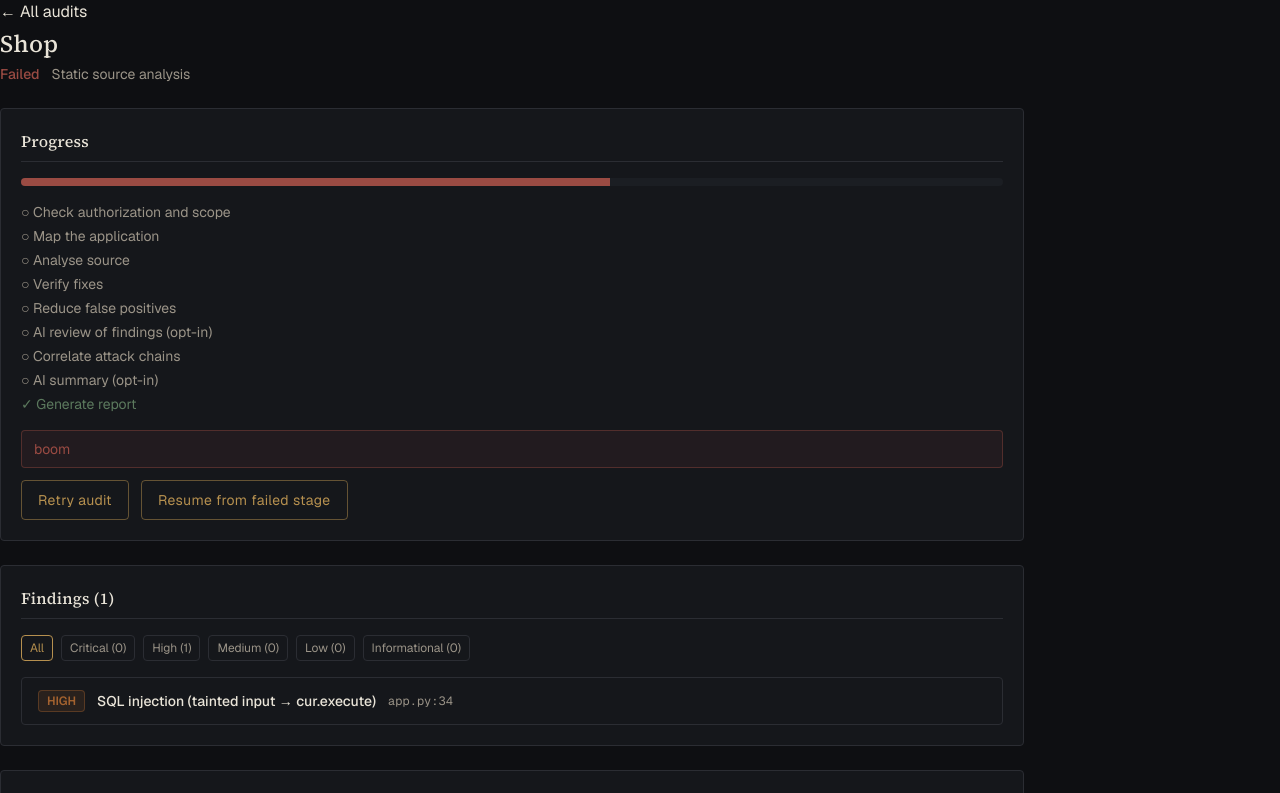
Test: AuditDetailPage › offers Retry for a failed audit and reloads after it is accepted
Click the button "Retry audit".
click(75, 500)  # box [21,480,129,520]
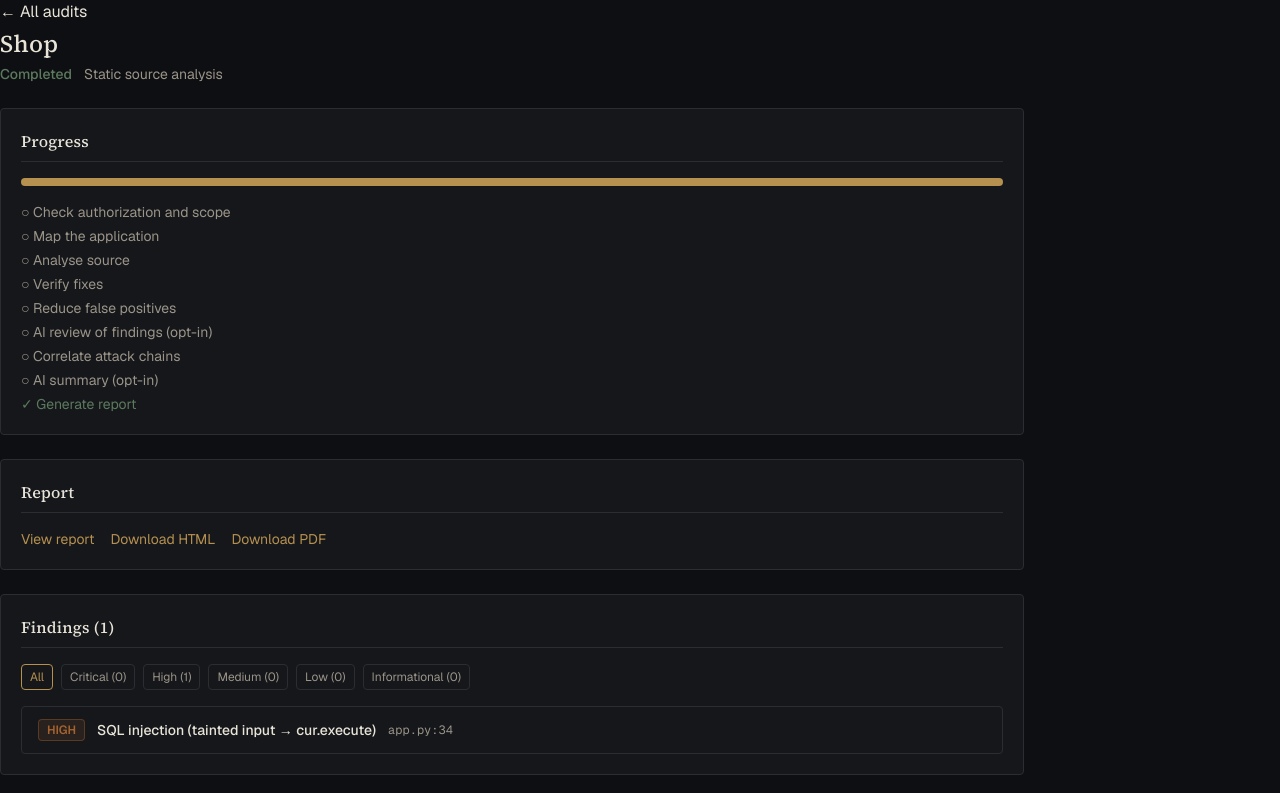
Expected: the text "completed" is shown, [0,64,72,84]
Expected: the button "Retry audit" is gone
